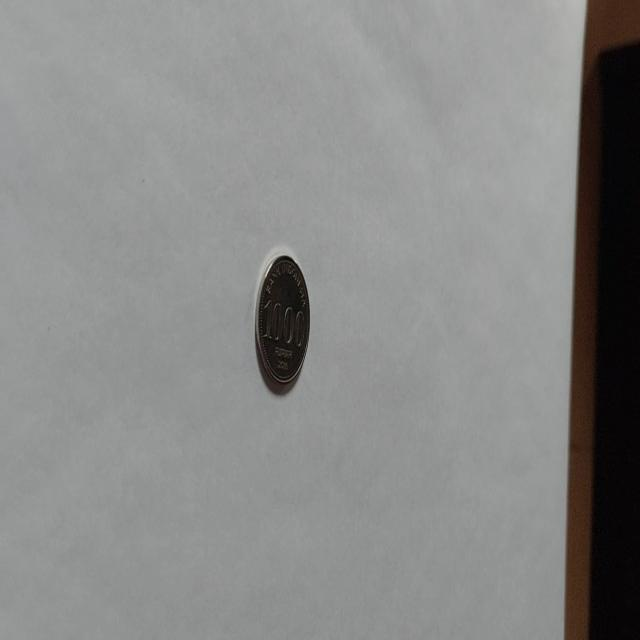seribu rupiah koin: (253, 251, 310, 393)
